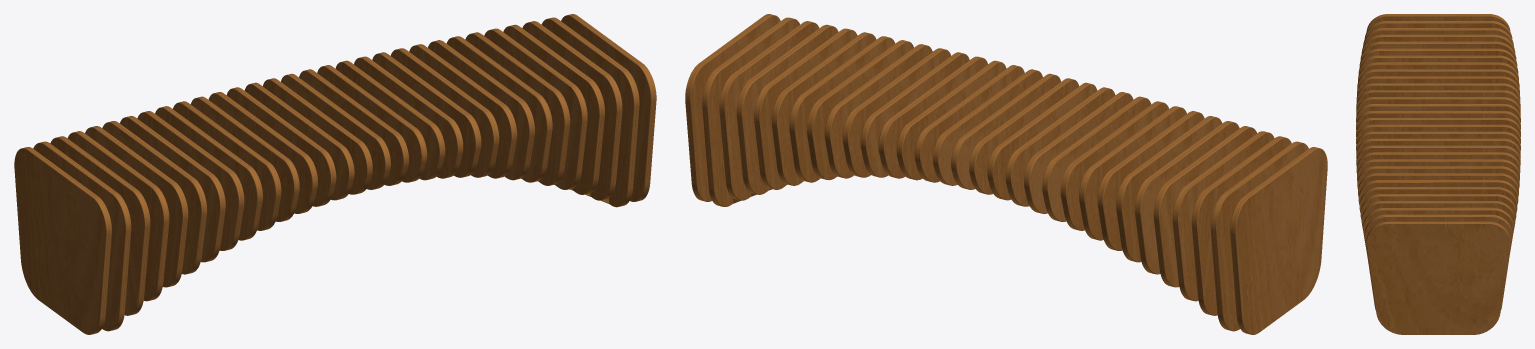
The model's file is bench.glb.
3 views of the same model, side by side, from view 1: azimuth 30°, elevation 25°; view 2: azimuth 150°, elevation 25°; view 3: azimuth 270°, elevation 25° (orthographic). The views are drawn at different scales.
Visible parts, largest first — view 1: prim0; view 2: prim0; view 3: prim0.
Part boxes in pixels (bbox=[...]): prim0: bbox=[14, 14, 656, 334]; prim0: bbox=[685, 14, 1327, 334]; prim0: bbox=[1356, 14, 1520, 334].
Bounding box in the file's own units: 3.23 × 0.7997 × 1.07.
1 material, 1 textured.
